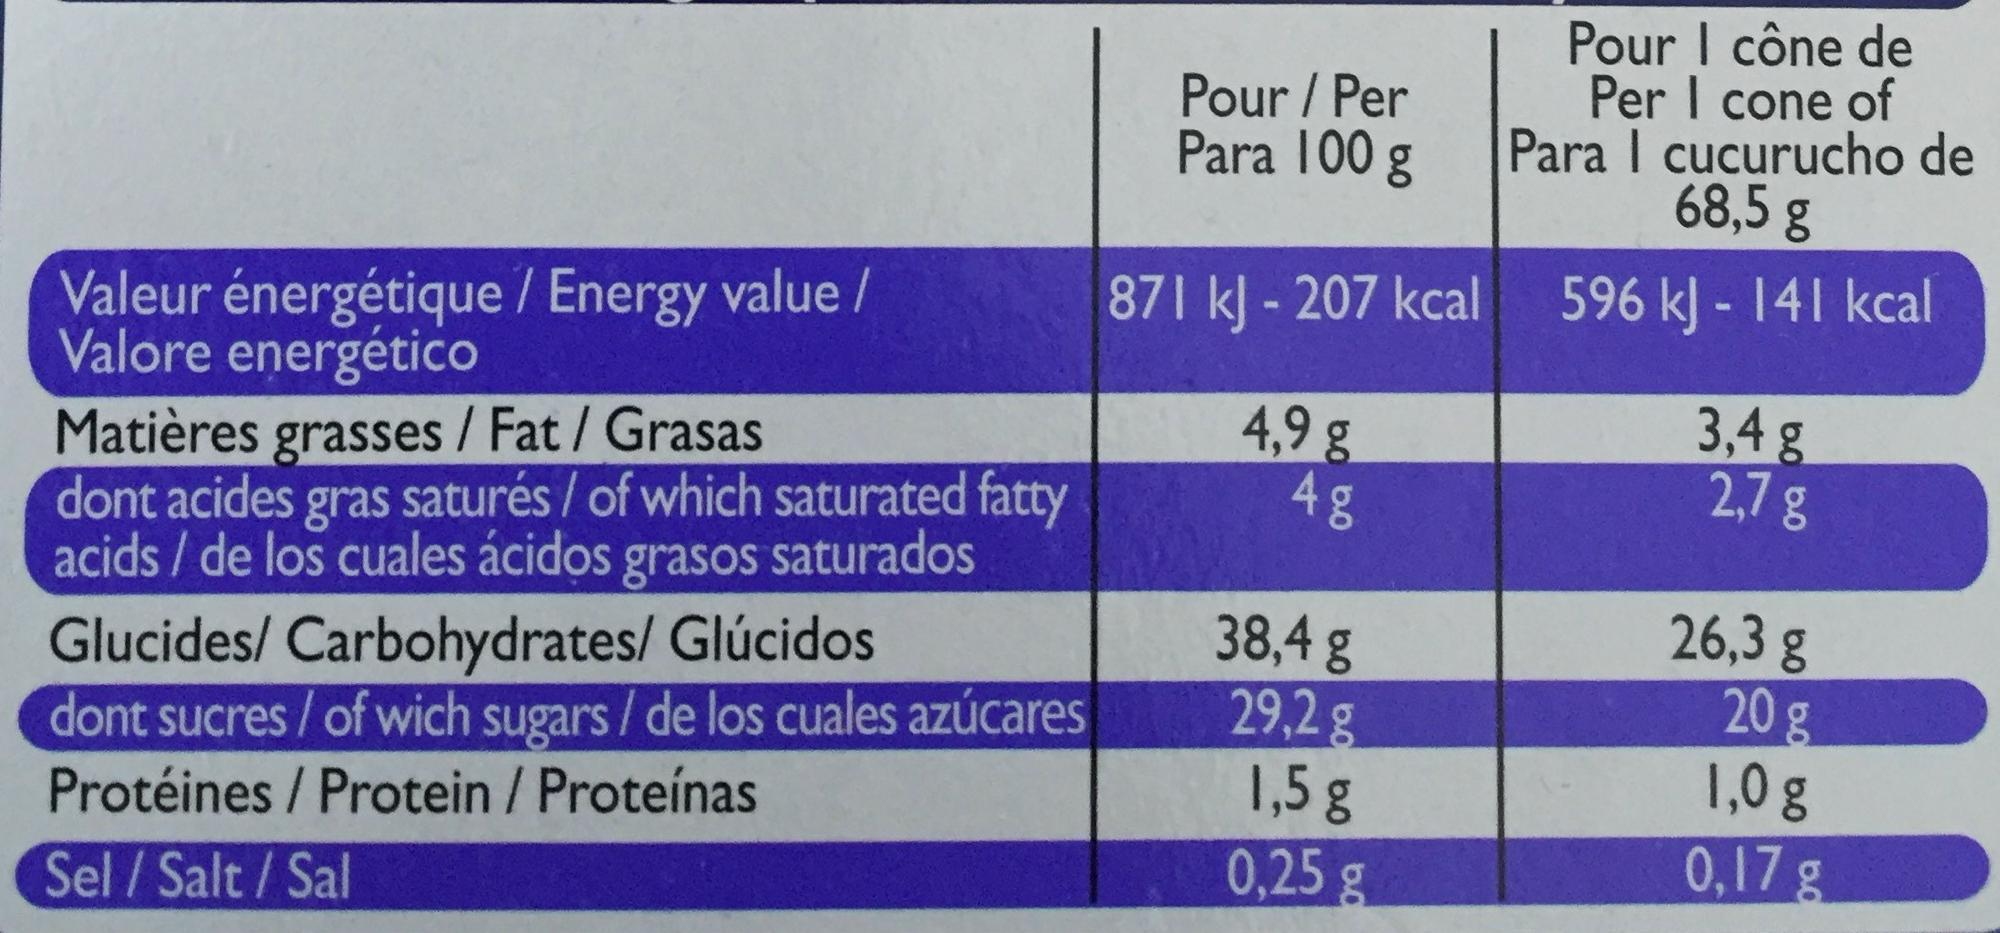column: (38, 262, 1082, 900), (1511, 17, 1976, 902), (1111, 71, 1480, 899)
line: (85, 20, 1972, 241), (62, 267, 1934, 382), (52, 476, 1940, 579), (54, 602, 1935, 679), (47, 763, 1940, 823), (52, 690, 1937, 747), (43, 841, 1945, 893), (52, 403, 1939, 454)
table: (13, 6, 1992, 933)
